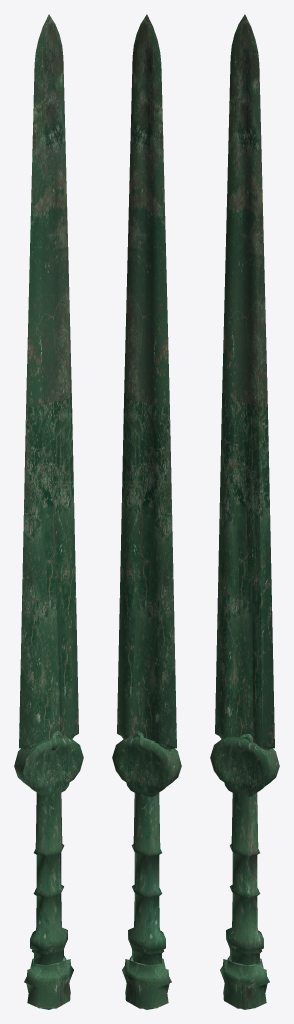
3 views of the same model, side by side, from view 1: azimuth 30°, elevation 25°; view 2: azimuth 150°, elevation 25°; view 3: azimuth 330°, elevation 25° (orthographic).
Visible parts, largest first — view 1: Ob5; view 2: Ob5; view 3: Ob5.
Boxes of the visible parts, x1,y1,x2,y2 form: Ob5: [14, 14, 83, 1009]; Ob5: [112, 14, 181, 1009]; Ob5: [210, 14, 279, 1009].
Bounding box in the file's own units: 0.1558 × 2.43 × 0.0751.
1 material, 1 textured.
